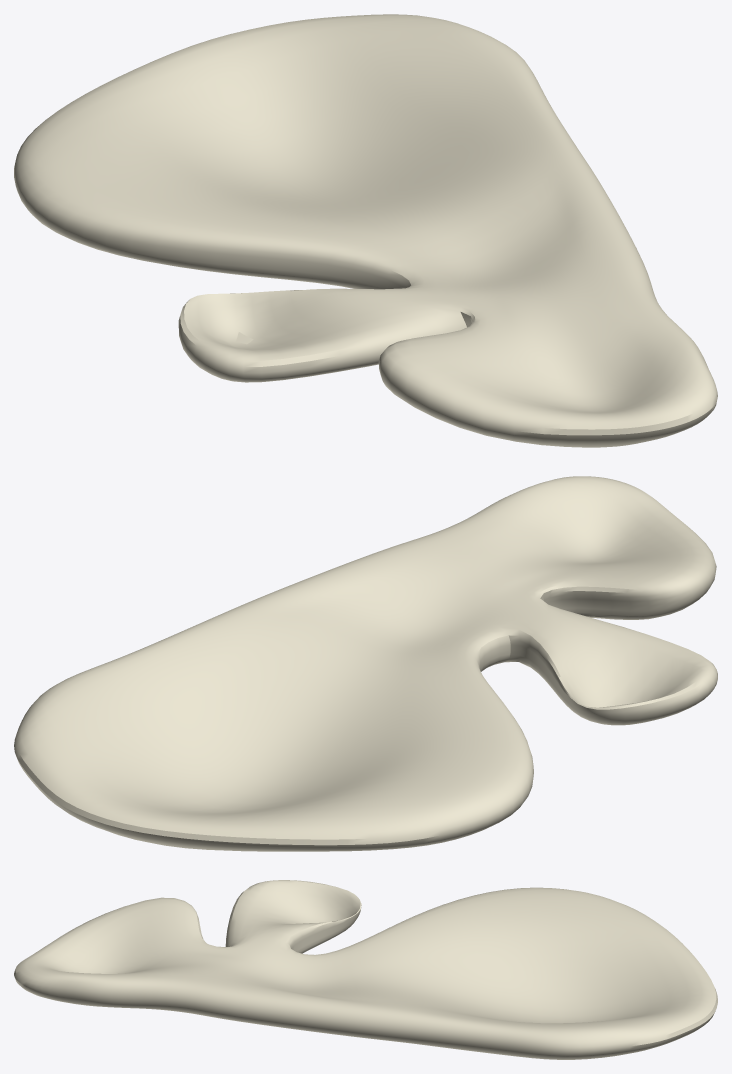
The model's file is Jew.fbx.
3 views of the same model, one above another, from view 1: azimuth 30°, elevation 25°; view 2: azimuth 150°, elevation 25°; view 3: azimuth 270°, elevation 25° (orthographic). The views are drawn at different scales.
Visible parts, largest first — view 1: Jew; view 2: Jew; view 3: Jew.
Part boxes in pixels (box(x1,y1,x2,y2)): Jew: box(14, 14, 717, 447); Jew: box(14, 476, 717, 851); Jew: box(14, 880, 717, 1059).
Bounding box in the file's own units: 726 × 144 × 1225.
